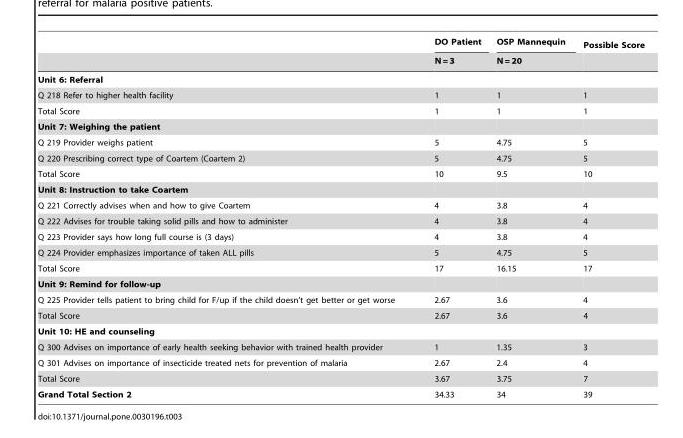table: (37, 37, 644, 398)
table column: (37, 37, 413, 398), (488, 37, 573, 398), (413, 37, 488, 398), (573, 37, 644, 398)
table column header: (37, 37, 644, 69)
table projected row header: (37, 69, 644, 87), (37, 118, 644, 134), (37, 181, 644, 197), (37, 323, 644, 339), (37, 276, 644, 291)
table row: (37, 69, 644, 87), (37, 52, 644, 69), (37, 87, 644, 103), (37, 118, 644, 134), (37, 134, 644, 150), (37, 165, 644, 181), (37, 181, 644, 197), (37, 197, 644, 213), (37, 228, 644, 244), (37, 244, 644, 260), (37, 260, 644, 276), (37, 291, 644, 307), (37, 307, 644, 323), (37, 323, 644, 339), (37, 354, 644, 370), (37, 370, 644, 386), (37, 37, 644, 52), (37, 103, 644, 118), (37, 150, 644, 165), (37, 213, 644, 228), (37, 276, 644, 291), (37, 339, 644, 354), (37, 386, 644, 398)
table spanning cell: (488, 37, 573, 69), (413, 37, 488, 69), (573, 37, 644, 69)
